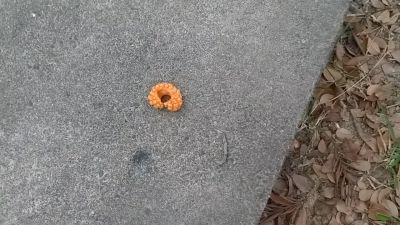eggs: (147, 82, 185, 113)
